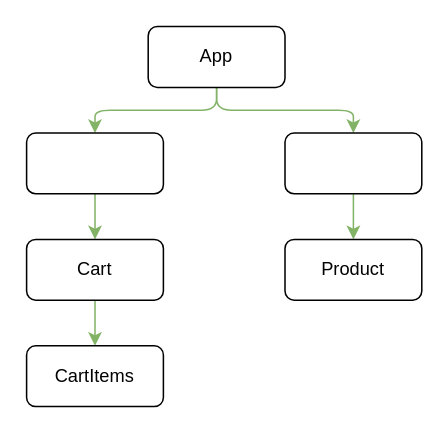
This 448x433 diagram has some shape labels left out. The centre of each missing label's shape, as x and y in pixels:
"Header" belongs at (x=94, y=162).
"Shop" belongs at (x=352, y=162).
